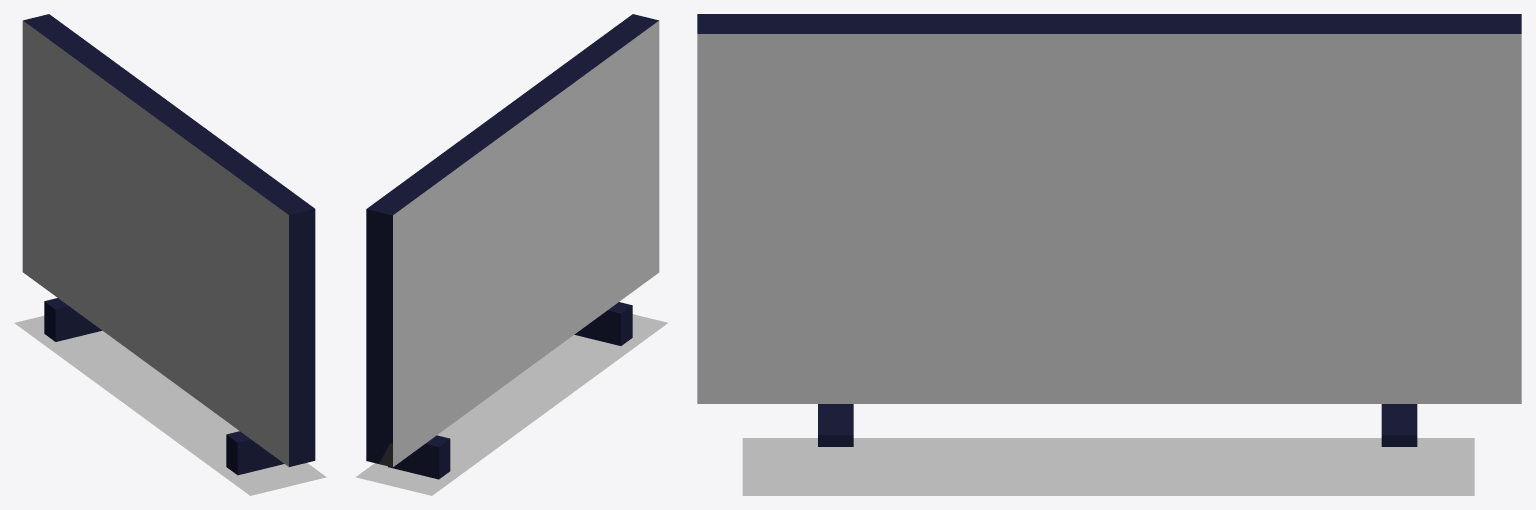
The model's file is OBJ_SignLandscape.fbx.
3 views of the same model, side by side, from view 1: azimuth 30°, elevation 25°; view 2: azimuth 150°, elevation 25°; view 3: azimuth 270°, elevation 25° (orthographic). The views are drawn at different scales.
Visible parts, largest first — view 1: Big Sign; view 2: Big Sign; view 3: Big Sign.
Boxes of the visible parts, box(x1,y1,x2,y2) form: Big Sign: box(14, 14, 326, 495); Big Sign: box(356, 14, 667, 495); Big Sign: box(697, 14, 1521, 495).
Size of the model in its own units: 63.62 by 231 by 383.
